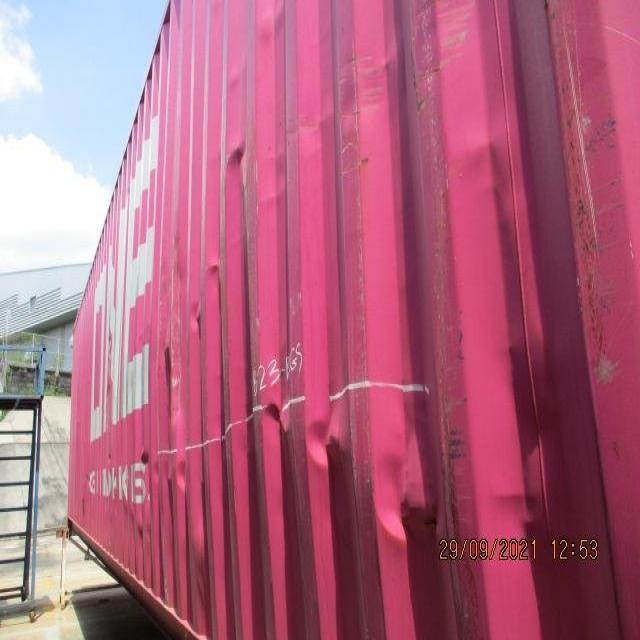dent: (254, 379, 453, 575), (158, 442, 221, 640), (185, 235, 231, 351)
